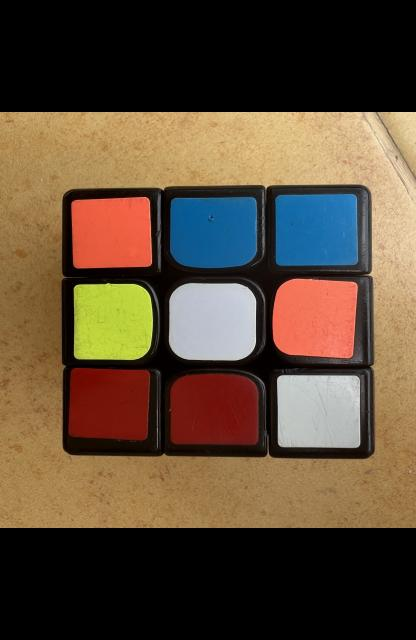Blue: (169, 196, 256, 268), (274, 194, 357, 266)
Orange: (272, 279, 357, 359), (70, 196, 150, 268)
Red: (169, 374, 257, 445), (68, 369, 149, 440)
White: (168, 283, 256, 361), (277, 375, 359, 448)
Yellow: (73, 283, 152, 360)
